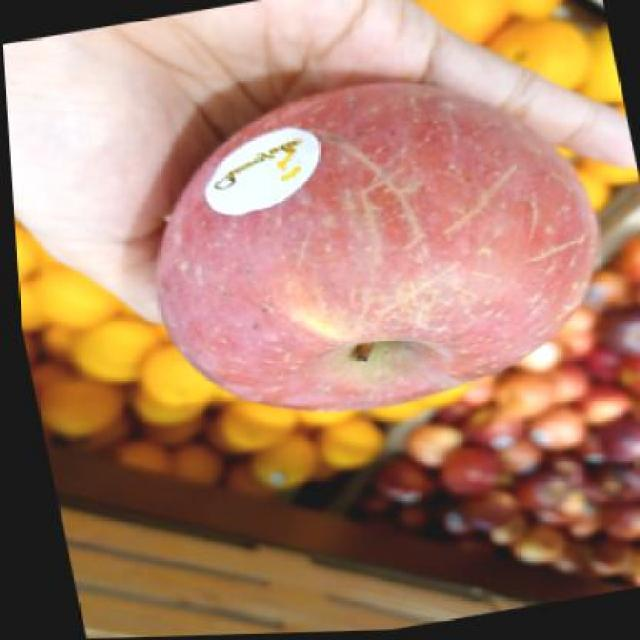Fresh Apple: (141, 85, 577, 400)
